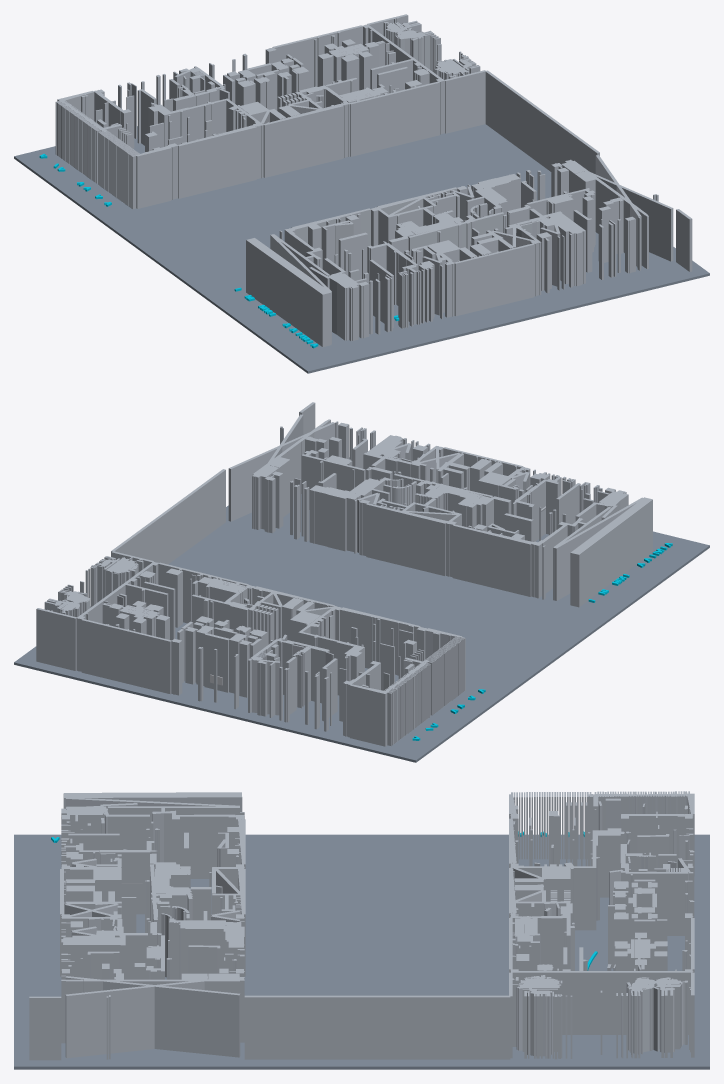
The picture shows the model from 3 angles, top to bottom: view 1: azimuth 30°, elevation 25°; view 2: azimuth 150°, elevation 25°; view 3: azimuth 270°, elevation 25°; orthographic projection. The views are drawn at different scales.
Visible parts, largest first — view 1: slab, wall_8606, wall_10556, wall_10352, wall_10471, wall_10351, wall_10348, wall_10355, wall_10345, wall_10359, wall_10353, wall_3856 (+11 smaller); view 2: slab, wall_8606, wall_10353, wall_10556, wall_10459, wall_10464, wall_10354, wall_10358, wall_10522, wall_10346, wall_10551, wall_3263 (+9 smaller); view 3: slab, wall_10556, wall_10359, wall_10358, wall_406, wall_10557, wall_2342, wall_8606, wall_404, wall_455, wall_10554, wall_10551 (+19 smaller).
Boxes of the visible parts, x1,y1,x2,y2 form: slab: [14, 124, 709, 373]; wall_8606: [246, 238, 331, 346]; wall_10556: [485, 70, 599, 173]; wall_10352: [349, 81, 439, 156]; wall_10471: [454, 243, 534, 316]; wall_10351: [263, 105, 343, 177]; wall_10348: [178, 126, 256, 198]; wall_10355: [444, 70, 485, 133]; wall_10345: [136, 147, 171, 208]; wall_10359: [566, 162, 673, 261]; wall_10353: [272, 25, 362, 87]; wall_3856: [408, 212, 504, 255]; slab: [14, 457, 709, 762]; wall_8606: [570, 497, 652, 607]; wall_10353: [81, 619, 171, 694]; wall_10556: [111, 469, 225, 564]; wall_10459: [366, 504, 446, 575]; wall_10464: [452, 525, 531, 596]; wall_10354: [36, 608, 76, 670]; wall_10358: [228, 422, 335, 521]; wall_10522: [350, 684, 386, 746]; wall_10346: [340, 608, 420, 674]; wall_10551: [555, 497, 644, 600]; wall_3263: [301, 454, 365, 509]; slab: [14, 834, 709, 1069]; wall_10556: [244, 995, 510, 1059]; wall_10359: [65, 976, 239, 1058]; wall_10358: [65, 976, 240, 1057]; wall_406: [512, 971, 691, 1034]; wall_10557: [29, 996, 61, 1060]; wall_2342: [625, 872, 688, 935]; wall_8606: [63, 792, 242, 811]; wall_404: [516, 866, 593, 930]; wall_455: [594, 830, 620, 897]; wall_10554: [108, 806, 239, 840]; wall_10551: [65, 797, 239, 807].
Bounding box in the file's own units: 6.32 × 0.8245 × 8.
